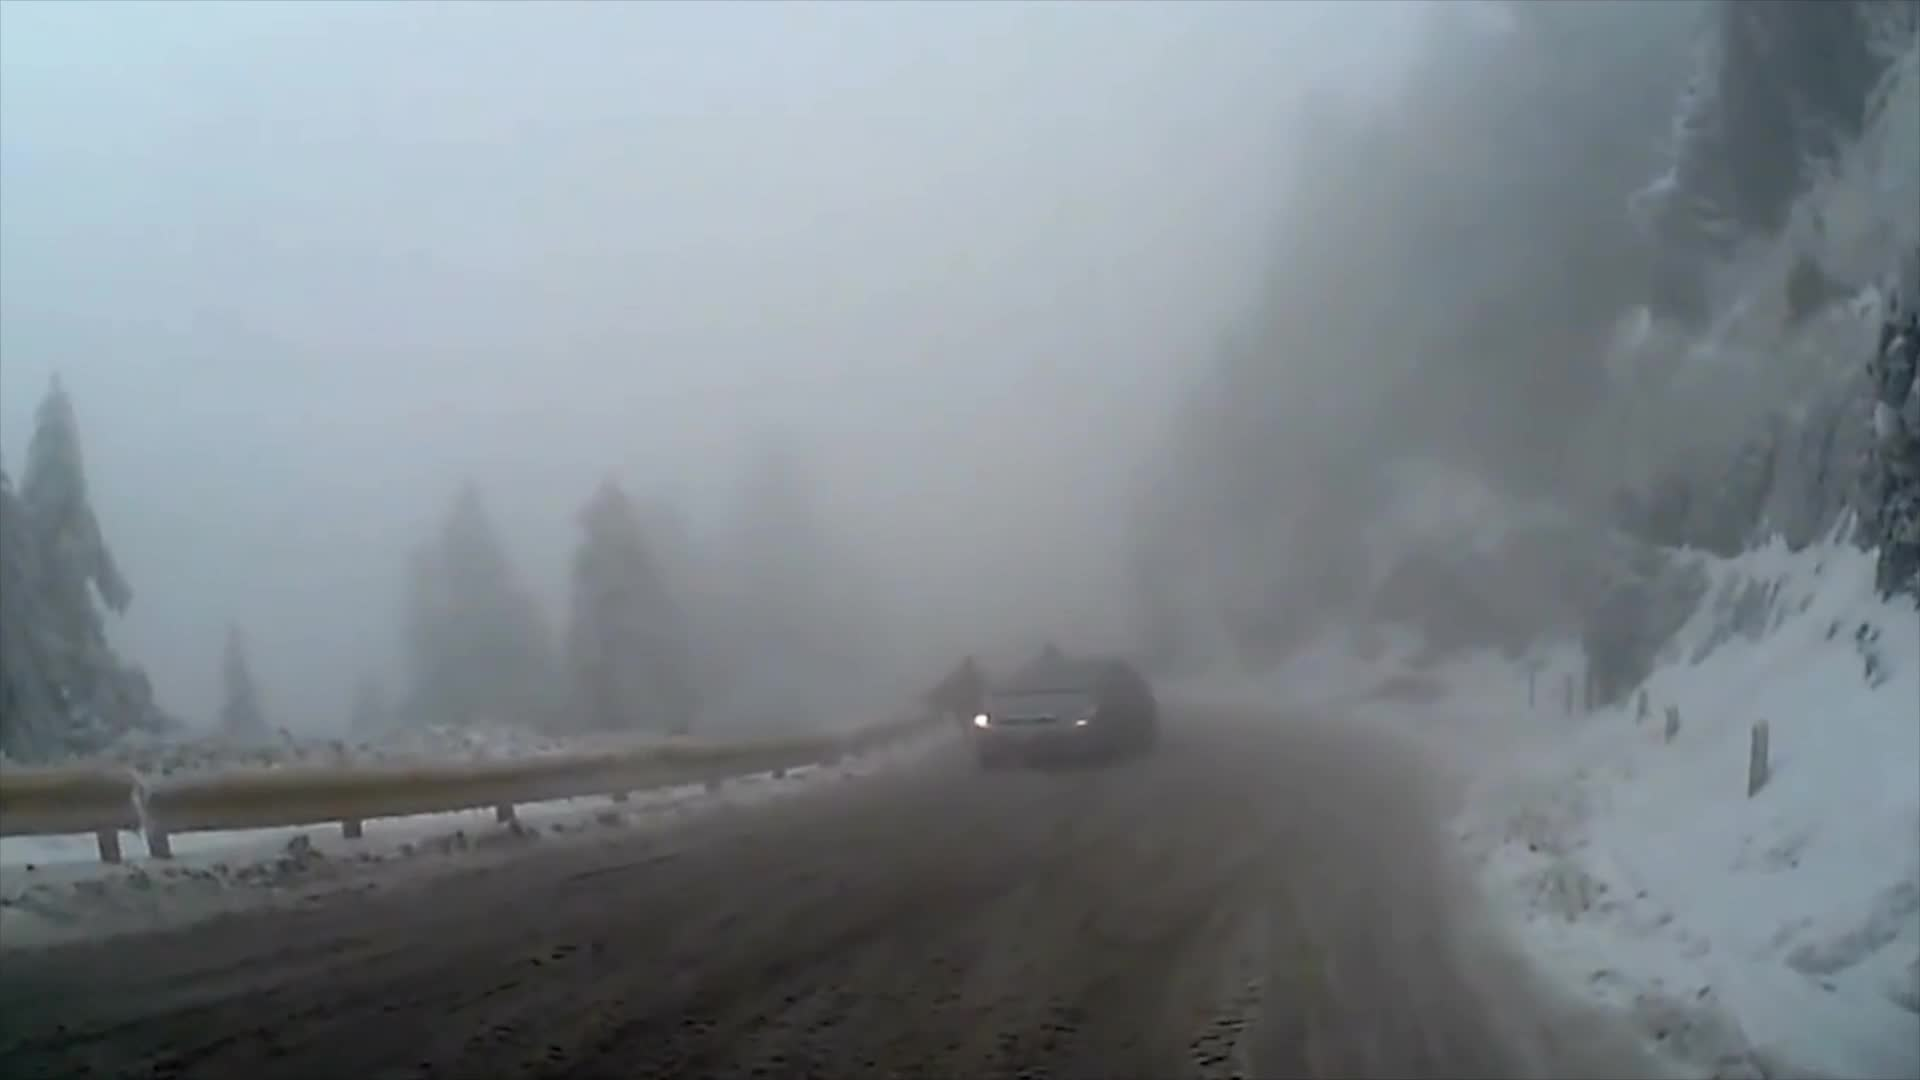vehicle: (969, 654, 1160, 770)
